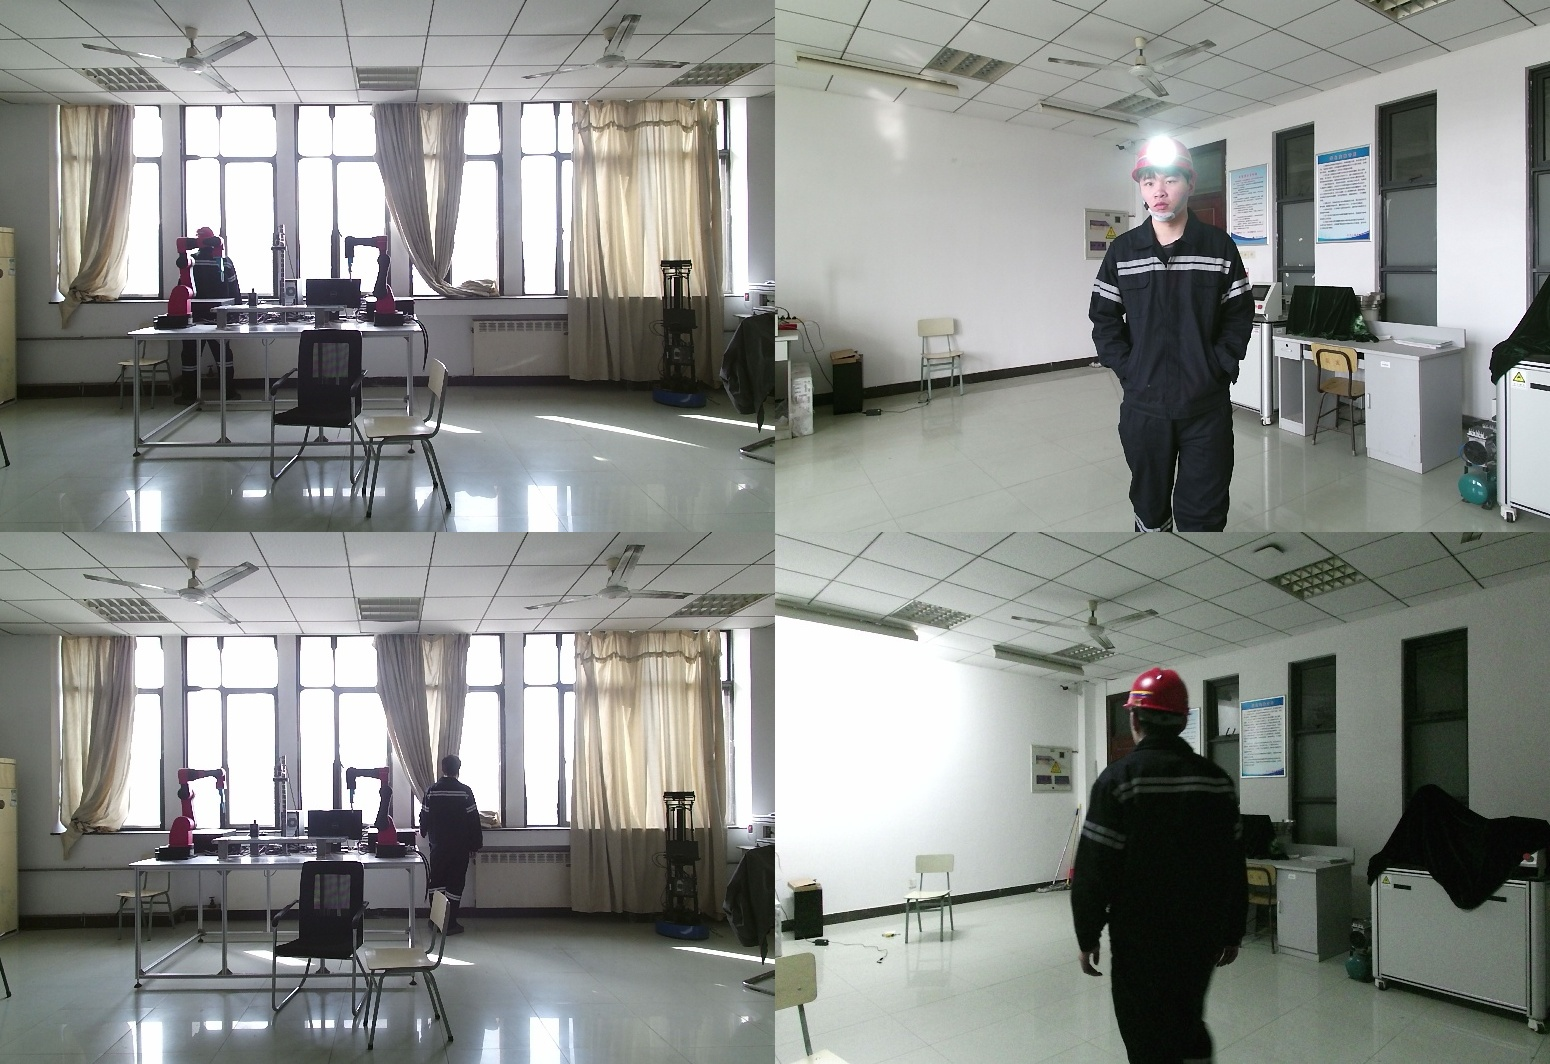person: (1071, 669, 1265, 1064), (1089, 136, 1264, 532), (177, 226, 240, 409), (418, 754, 483, 918)
